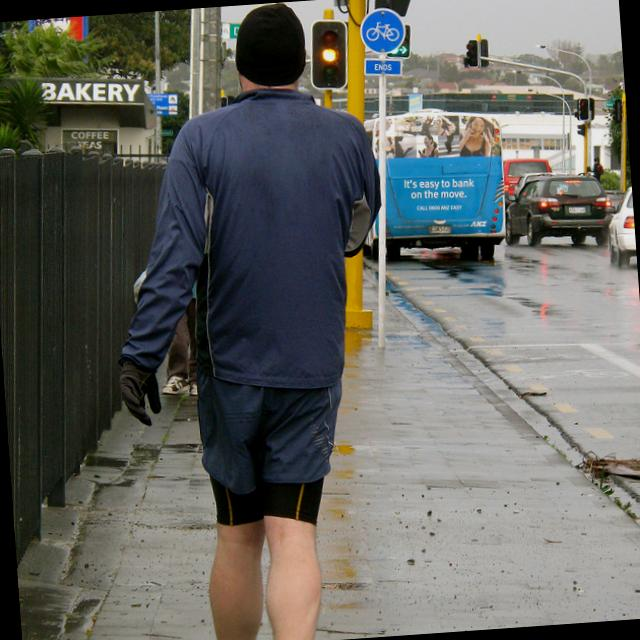Vehicle: (362, 98, 520, 262), (380, 107, 510, 267), (502, 172, 618, 250), (602, 183, 638, 272), (502, 154, 556, 194)
